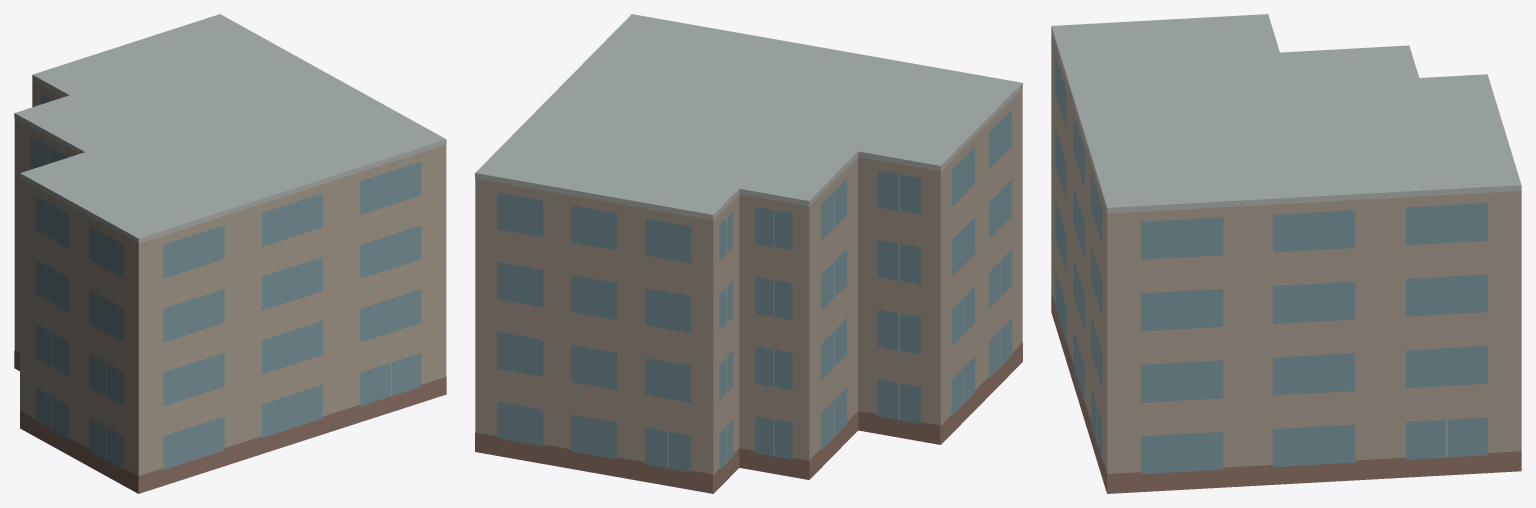
The model's file is residential-13ef2622-338f-4837-9793-d97e10cccbae.glb.
The picture shows the model from 3 angles, left to right: view 1: azimuth 30°, elevation 25°; view 2: azimuth 150°, elevation 25°; view 3: azimuth 270°, elevation 25°; orthographic projection. The views are drawn at different scales.
Visible parts, largest first — view 1: residential-13ef2622-338f-4837-9793-d97e10cccbae.tmp; view 2: residential-13ef2622-338f-4837-9793-d97e10cccbae.tmp; view 3: residential-13ef2622-338f-4837-9793-d97e10cccbae.tmp.
Boxes of the visible parts, bbox=[...] form: residential-13ef2622-338f-4837-9793-d97e10cccbae.tmp: bbox=[14, 14, 446, 493]; residential-13ef2622-338f-4837-9793-d97e10cccbae.tmp: bbox=[475, 14, 1022, 493]; residential-13ef2622-338f-4837-9793-d97e10cccbae.tmp: bbox=[1051, 14, 1521, 493].
Bounding box in the file's own units: 17.74 × 12.2 × 18.19.
